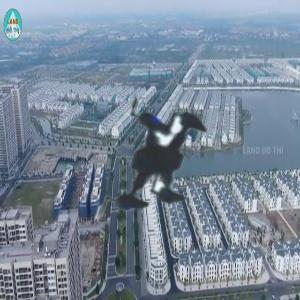drone: (43, 45, 273, 275)
